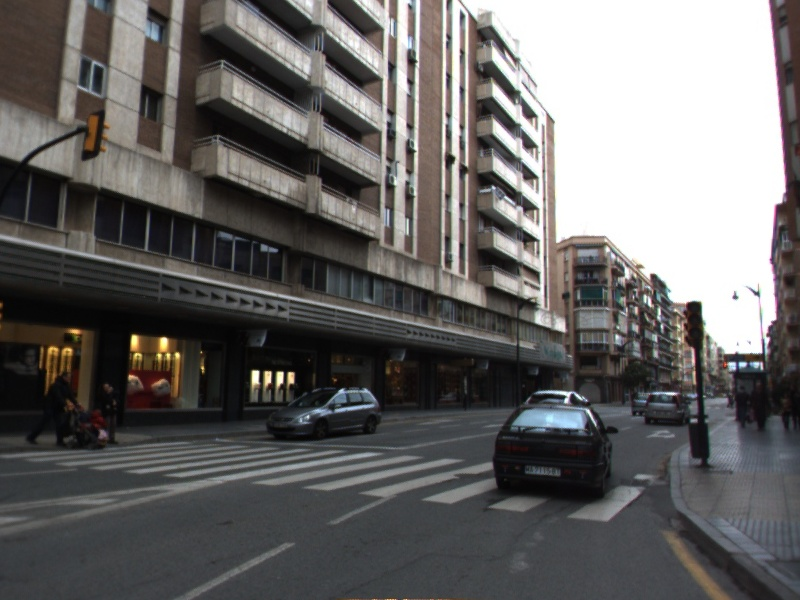STRAIGHT_RIGHT: (644, 427, 678, 441)
